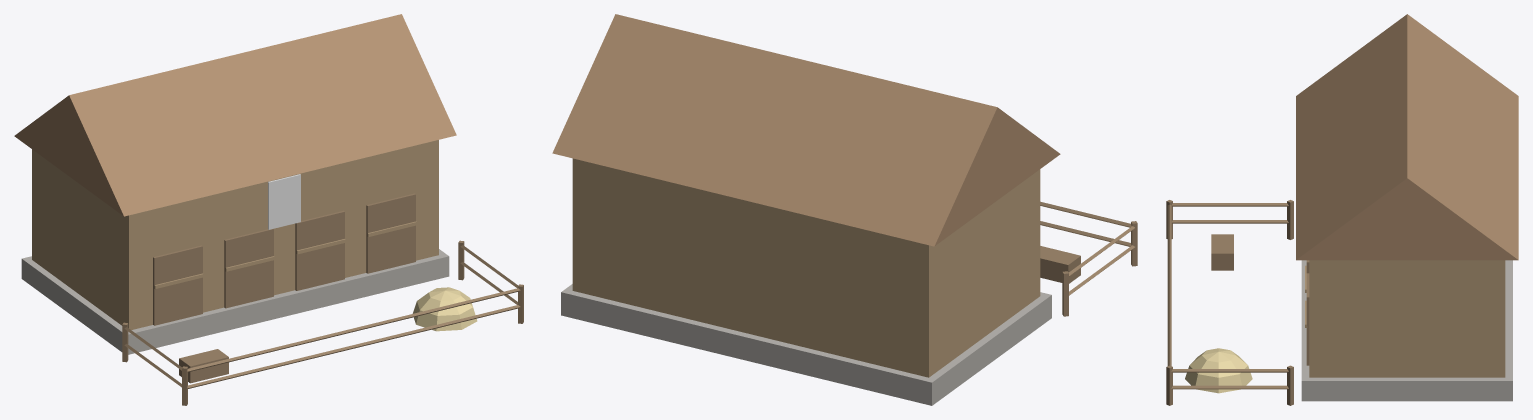
The picture shows the model from 3 angles, left to right: view 1: azimuth 30°, elevation 25°; view 2: azimuth 150°, elevation 25°; view 3: azimuth 270°, elevation 25°; orthographic projection. The views are drawn at different scales.
Parts seen in each view (by area): view 1: body; view 2: body; view 3: body.
Part boxes in pixels (box(x1,y1,x2,y2)): body: box(14, 14, 523, 405); body: box(552, 14, 1137, 405); body: box(1166, 14, 1518, 405).
Bounding box in the file's own units: 10.58 × 6.6 × 9.34.
